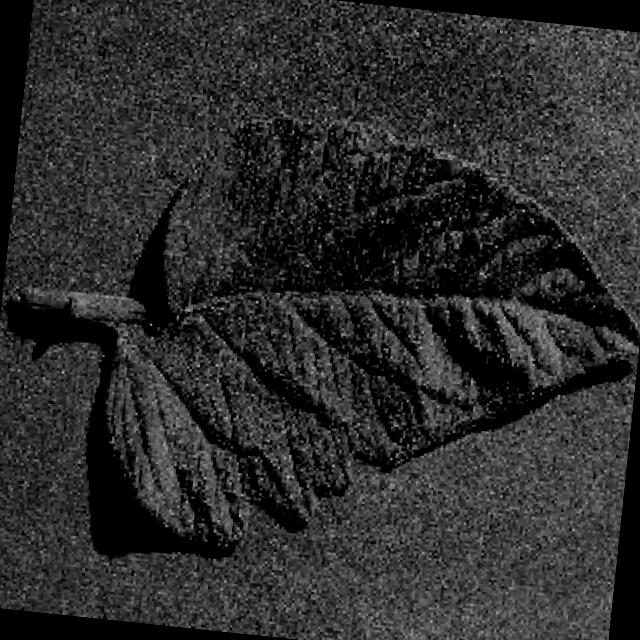healthy: (29, 124, 639, 553)
